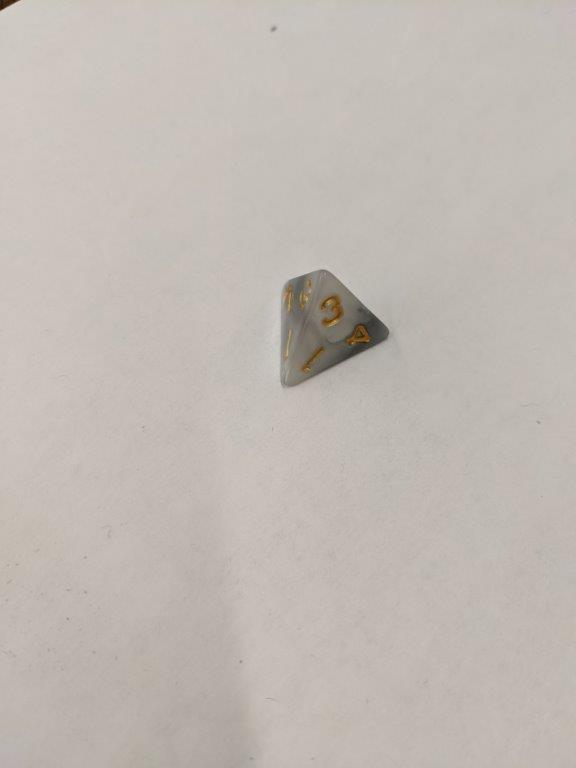d4-3: (275, 265, 391, 388)
